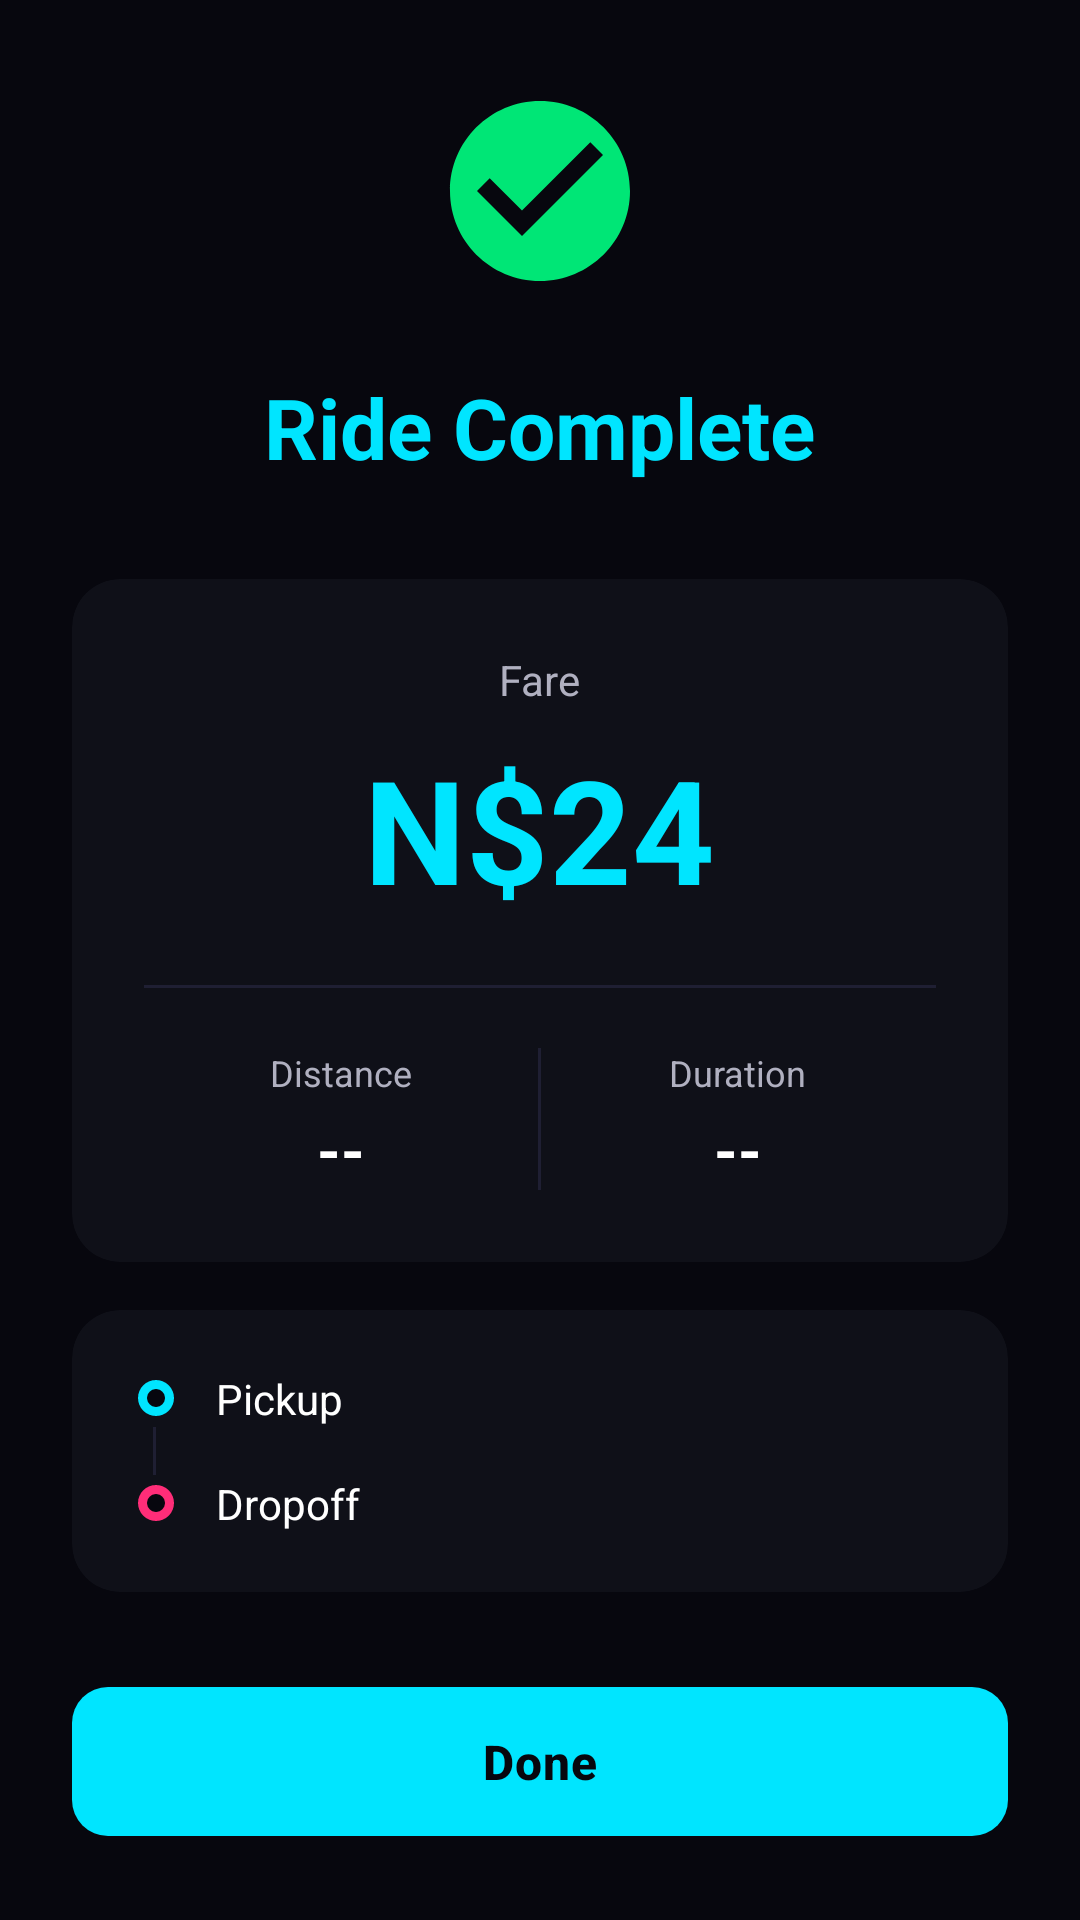

Named icons in this screenshot (1080×1920) and their bounding boxes, (x1, y1, x2, y2):
destination dot: (138, 1485, 174, 1521)
